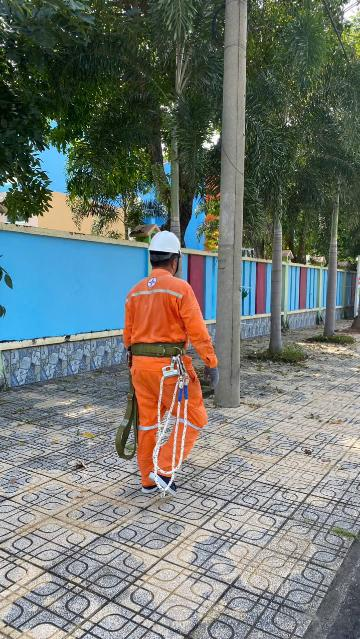gloves: (201, 364, 223, 391)
harness: (109, 334, 196, 360)
helmet: (146, 228, 188, 262)
shoes: (146, 465, 183, 497), (135, 476, 158, 500)
